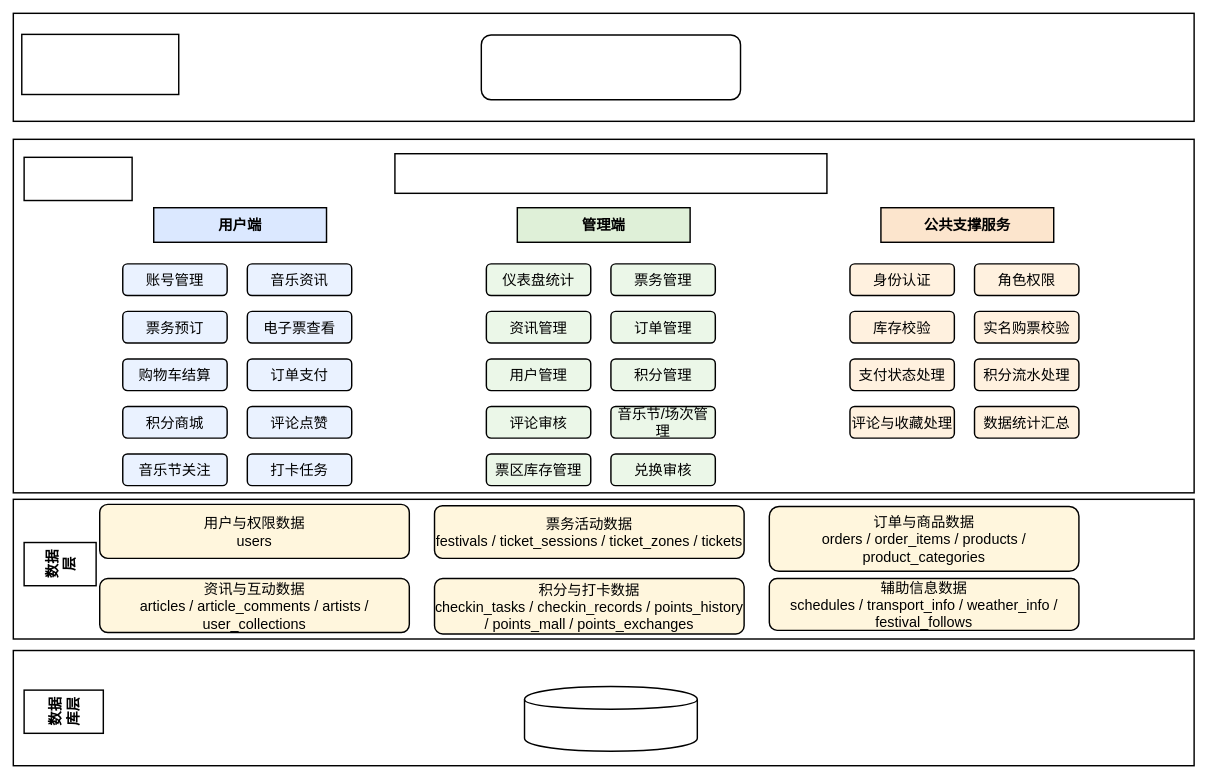
This 1207x778 diagram has some shape labels left out. The centre of each missing label's shape, as x and y in pixels:
"MySQL 数据库" belongs at (x=610, y=718).
"SpringBoot 业务服务 / RESTful API" belongs at (x=610, y=173).
"Vue 前端页面 / PC浏览器" belongs at (x=610, y=67).
"展现层" belongs at (x=100, y=64).
"应用服务层" belongs at (x=77, y=178).
